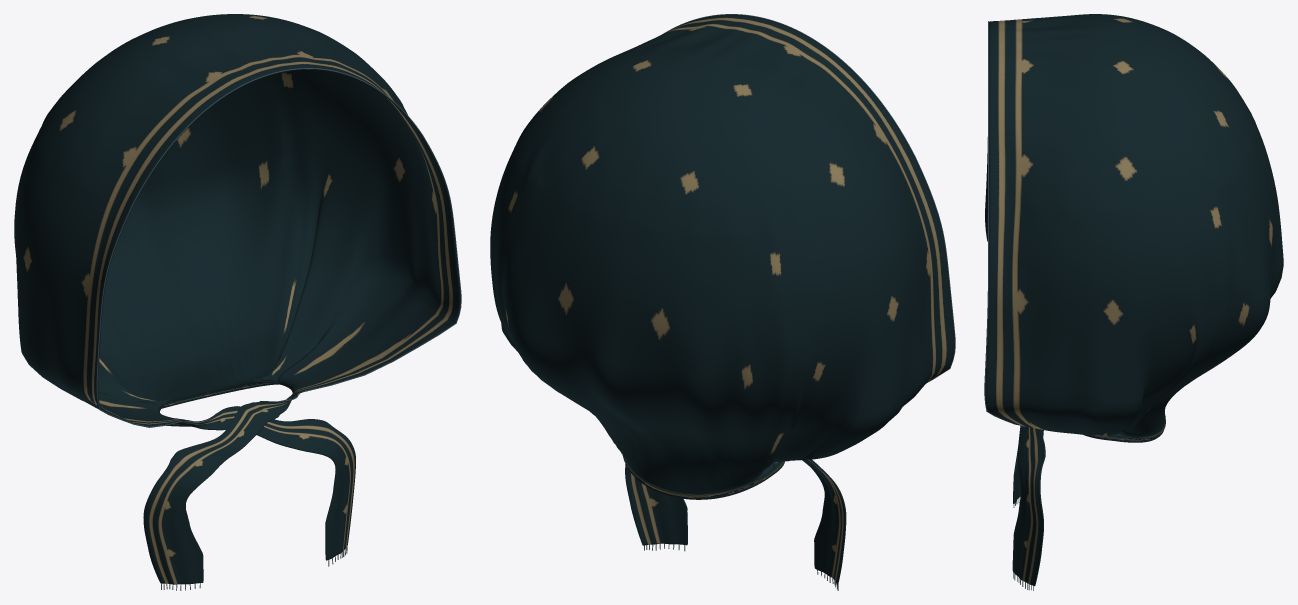
The model's file is Masculine-jersey-compact-pashmina248-headgear.glb.
3 views of the same model, side by side, from view 1: azimuth 30°, elevation 25°; view 2: azimuth 150°, elevation 25°; view 3: azimuth 270°, elevation 25° (orthographic). The views are drawn at different scales.
Parts seen in each view (by area): view 1: 226 headgear / Headwear / continuous woven pashmina239, 226 headgear / Headwear / face edge239; view 2: 226 headgear / Headwear / continuous woven pashmina239, 226 headgear / Headwear / face edge239; view 3: 226 headgear / Headwear / continuous woven pashmina239, 226 headgear / Headwear / face edge239.
Part boxes in pixels (x1,y1,x2,y2): 226 headgear / Headwear / continuous woven pashmina239: (14, 14, 460, 584); 226 headgear / Headwear / face edge239: (96, 68, 461, 427); 226 headgear / Headwear / continuous woven pashmina239: (490, 14, 954, 584); 226 headgear / Headwear / face edge239: (663, 14, 955, 382); 226 headgear / Headwear / continuous woven pashmina239: (985, 14, 1283, 586); 226 headgear / Headwear / face edge239: (984, 21, 1018, 425).
Size of the model in its own units: 1.03 by 1.35 by 0.7123.
Materials: 3 (1 with a texture image).
